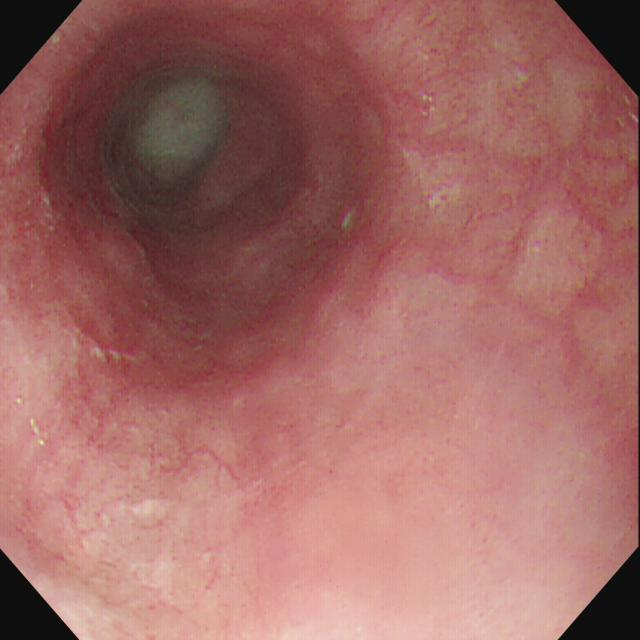A: (555, 133, 637, 238), (42, 372, 143, 457)
J: (141, 74, 226, 176), (93, 345, 136, 364)
